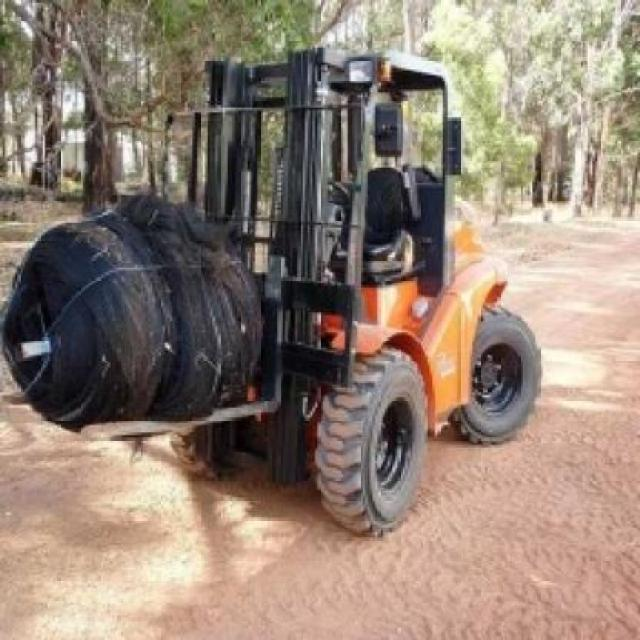forklift: (176, 50, 543, 534)
